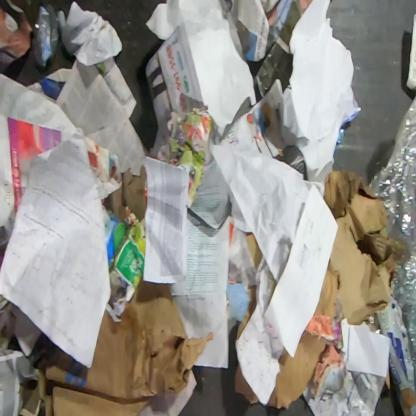cardboard: (33, 273, 216, 415), (314, 168, 403, 326), (267, 329, 327, 410), (107, 164, 148, 223), (388, 352, 416, 416), (236, 285, 256, 341), (246, 234, 262, 271)
rigid_plastic: (31, 1, 60, 72)
soft_plastic: (366, 90, 415, 397)
